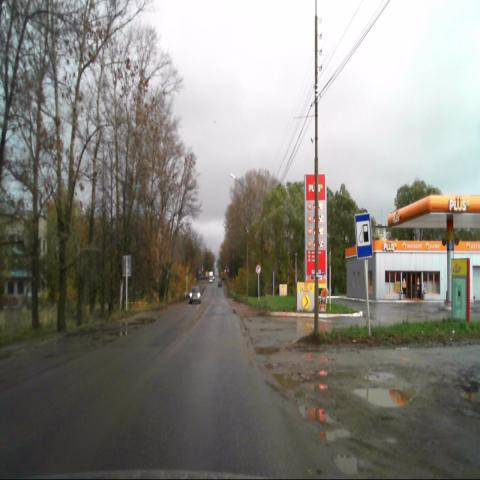7_3: (355, 212, 373, 259)
